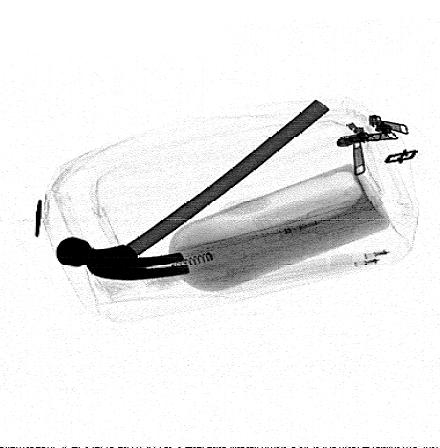Hammer: (55, 99, 331, 281)
